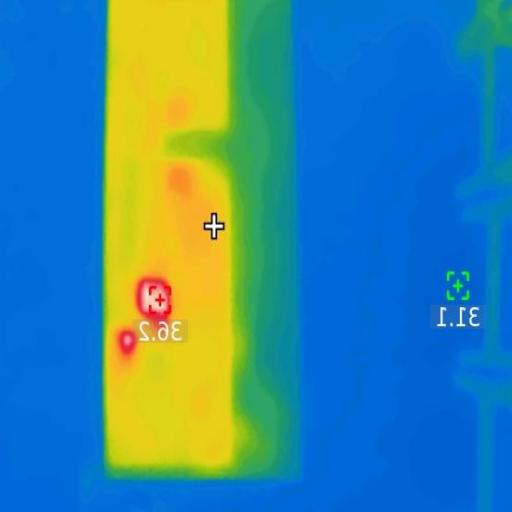hotspot: (138, 276, 170, 323), (120, 330, 134, 354)
